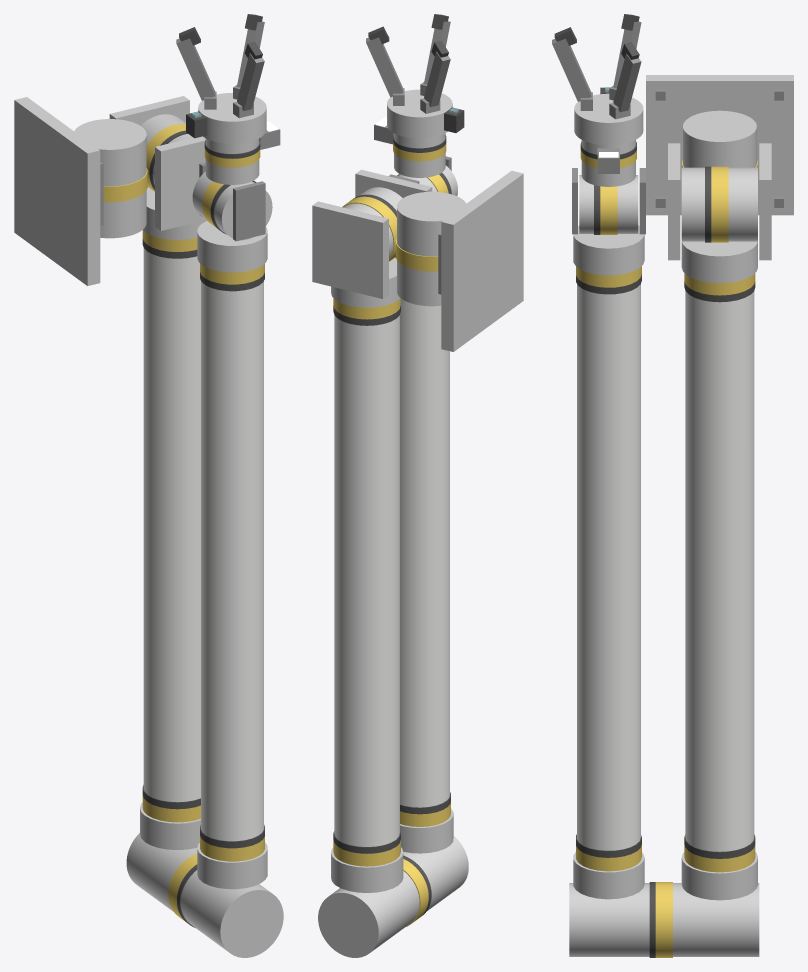
File: robotic-arm.glb
3 renders of one model, left to right at view 1: azimuth 30°, elevation 25°; view 2: azimuth 150°, elevation 25°; view 3: azimuth 270°, elevation 25°, orthographic. The views are drawn at different scales.
Visible parts, largest first — view 1: lower-boom-tube, upper-boom-tube, base-plate, elbow-hub, base-cheeks, base-drum, lower-boom-collars, upper-boom-collars, grabber-palm, wrist-pitch-fork, lower-boom-bands, wrist-roll-housing (+10 smaller); view 2: upper-boom-tube, lower-boom-tube, base-plate, elbow-hub, base-cheeks, base-drum, upper-boom-collars, grabber-palm, upper-boom-bands, lower-boom-collars, wrist-roll-housing, upper-boom-band-stripes (+10 smaller); view 3: upper-boom-tube, lower-boom-tube, base-plate, elbow-hub, upper-boom-collars, lower-boom-collars, shoulder-hub, base-drum, base-cheeks, grabber-palm, wrist-pitch-hub, upper-boom-bands (+12 smaller).
Boxes of the visible parts, x1,y1,x2,y2 form: lower-boom-tube: (201,281,263,841); upper-boom-tube: (143,248,200,802); base-plate: (14,97,100,285); elbow-hub: (126,833,283,957); base-cheeks: (109,96,206,230); base-drum: (74,119,146,238); lower-boom-collars: (197,221,267,889); upper-boom-collars: (140,187,206,850); grabber-palm: (198,93,266,143); wrist-pitch-fork: (199,162,265,241); lower-boom-bands: (200,263,264,861); wrist-roll-housing: (205,138,259,184); upper-boom-tube: (334,315,399,846); lower-boom-tube: (400,298,449,807); base-plate: (441,170,523,351); elbow-hub: (318,836,468,957); base-cheeks: (312,169,432,298); base-drum: (397,191,466,306); upper-boom-collars: (331,257,403,892); grabber-palm: (387,89,452,138); upper-boom-bands: (333,298,400,866); lower-boom-collars: (400,808,453,853); wrist-roll-housing: (394,133,445,177); upper-boom-band-stripes: (333,305,400,853); upper-boom-tube: (685,291,754,851); lower-boom-tube: (577,284,640,850); base-plate: (646,75,793,215); elbow-hub: (569,883,759,956); upper-boom-collars: (681,241,757,900); lower-boom-collars: (573,225,644,899); shoulder-hub: (681,167,757,241); base-drum: (683,110,756,167); base-cheeks: (668,143,771,260); grabber-palm: (574,93,643,145); wrist-pitch-hub: (579,175,638,233); upper-boom-bands: (684,273,755,872).
Size of the model in its own units: 0.8094 by 4.14 by 0.9802.
